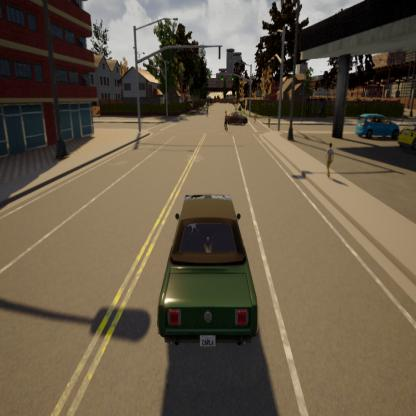Cars: (152, 182, 267, 359), (347, 102, 401, 150), (394, 101, 416, 163), (227, 104, 248, 132)
Pedestrian: (322, 129, 336, 187), (221, 107, 232, 137)
